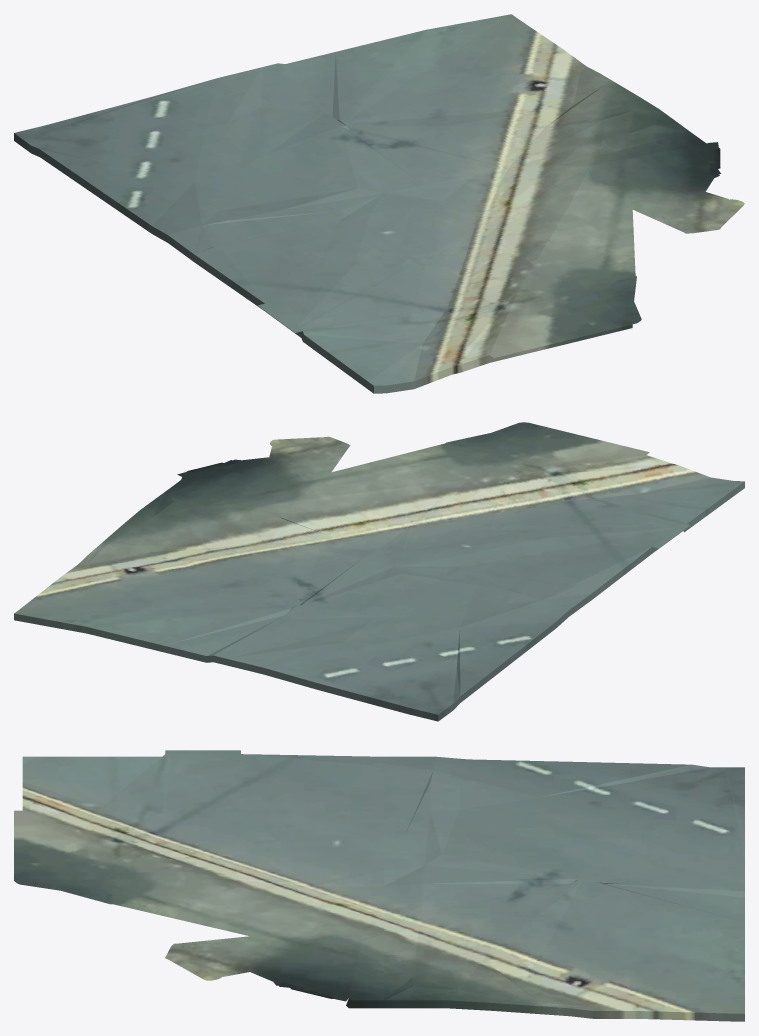
File: BuildingMesh-00096.gltf
The picture shows the model from 3 angles, top to bottom: view 1: azimuth 30°, elevation 25°; view 2: azimuth 150°, elevation 25°; view 3: azimuth 270°, elevation 25°; orthographic projection. The views are drawn at different scales.
Visible parts, largest first — view 1: BuildingMesh-00096; view 2: BuildingMesh-00096; view 3: BuildingMesh-00096.
Part boxes in pixels (bbox=[...]): BuildingMesh-00096: bbox=[14, 14, 744, 393]; BuildingMesh-00096: bbox=[14, 422, 744, 721]; BuildingMesh-00096: bbox=[14, 750, 744, 1021].
Size of the model in its own units: 0.8 by 0.0353 by 0.9843.
Materials: 1 (1 with a texture image).
